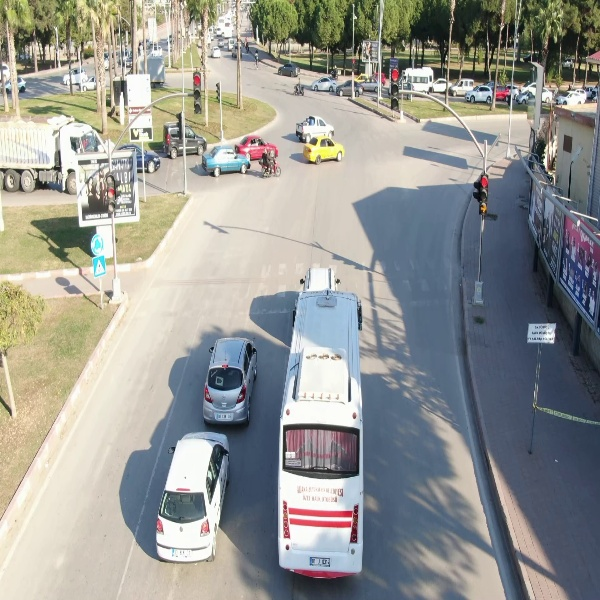car: (155, 430, 234, 565), (196, 333, 261, 428), (201, 142, 252, 178), (302, 134, 346, 163), (464, 82, 494, 104), (61, 66, 89, 86), (312, 73, 338, 92), (276, 61, 301, 79), (212, 45, 224, 60)
